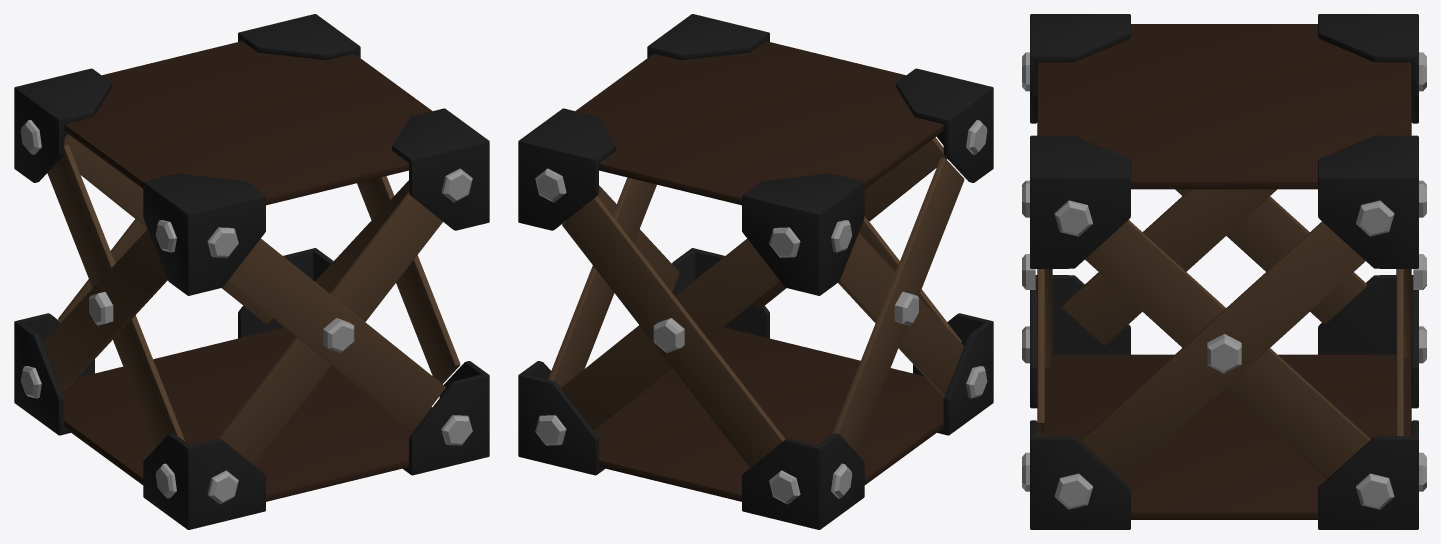
File: SM_SteelCube_1M.FBX
3 views of the same model, side by side, from view 1: azimuth 30°, elevation 25°; view 2: azimuth 150°, elevation 25°; view 3: azimuth 270°, elevation 25° (orthographic). The views are drawn at different scales.
Parts seen in each view (by area): view 1: SM_SteelCube_1M; view 2: SM_SteelCube_1M; view 3: SM_SteelCube_1M.
Part boxes in pixels (x1,y1,x2,y2): SM_SteelCube_1M: (14, 14, 489, 529); SM_SteelCube_1M: (518, 14, 993, 529); SM_SteelCube_1M: (1022, 14, 1426, 529).
Size of the model in its own units: 102 by 102 by 98.38.
